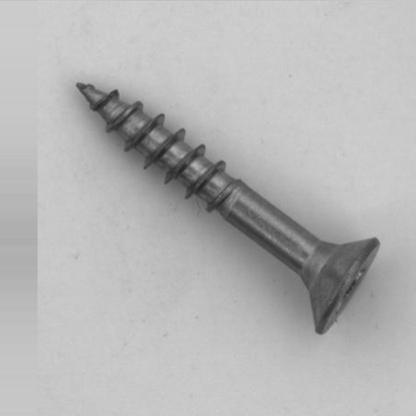metal: (75, 80, 380, 334)
